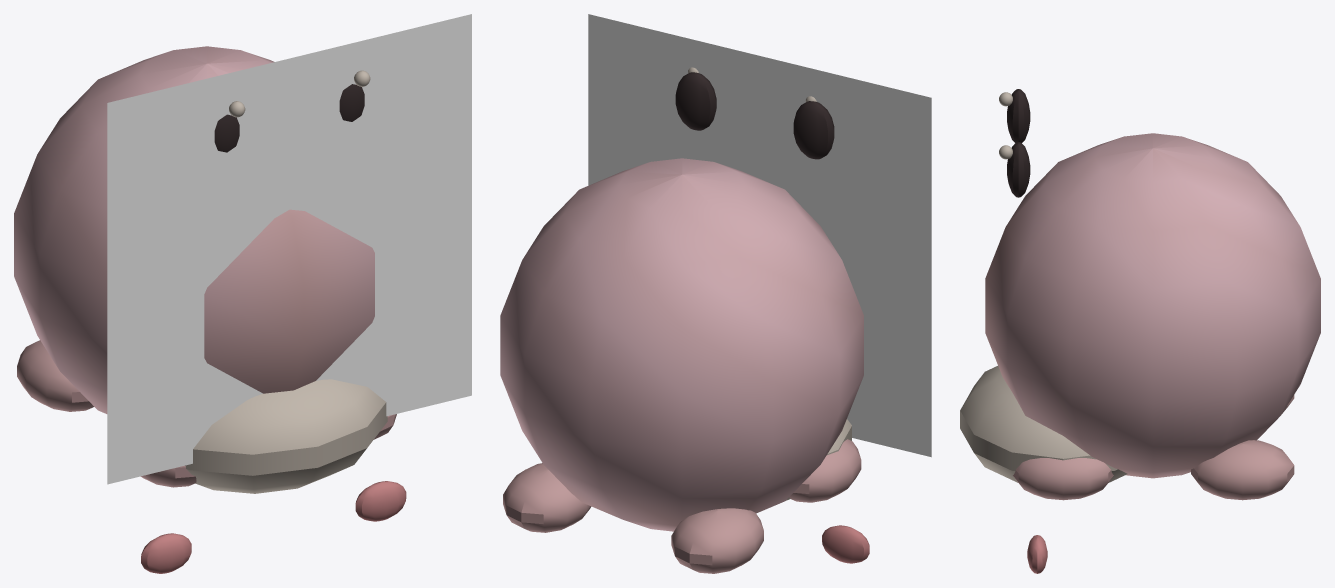
The picture shows the model from 3 angles, left to right: view 1: azimuth 30°, elevation 25°; view 2: azimuth 150°, elevation 25°; view 3: azimuth 270°, elevation 25°; orthographic projection. The views are drawn at different scales.
Parts seen in each view (by area): view 1: pet_pf9a96b19; view 2: pet_pf9a96b19; view 3: pet_pf9a96b19.
Part boxes in pixels (box(x1,y1,x2,y2)): pet_pf9a96b19: box(14, 14, 471, 573); pet_pf9a96b19: box(500, 14, 931, 573); pet_pf9a96b19: box(960, 89, 1320, 573).
Bounding box in the file's own units: 0.408 × 0.5342 × 0.4023.
